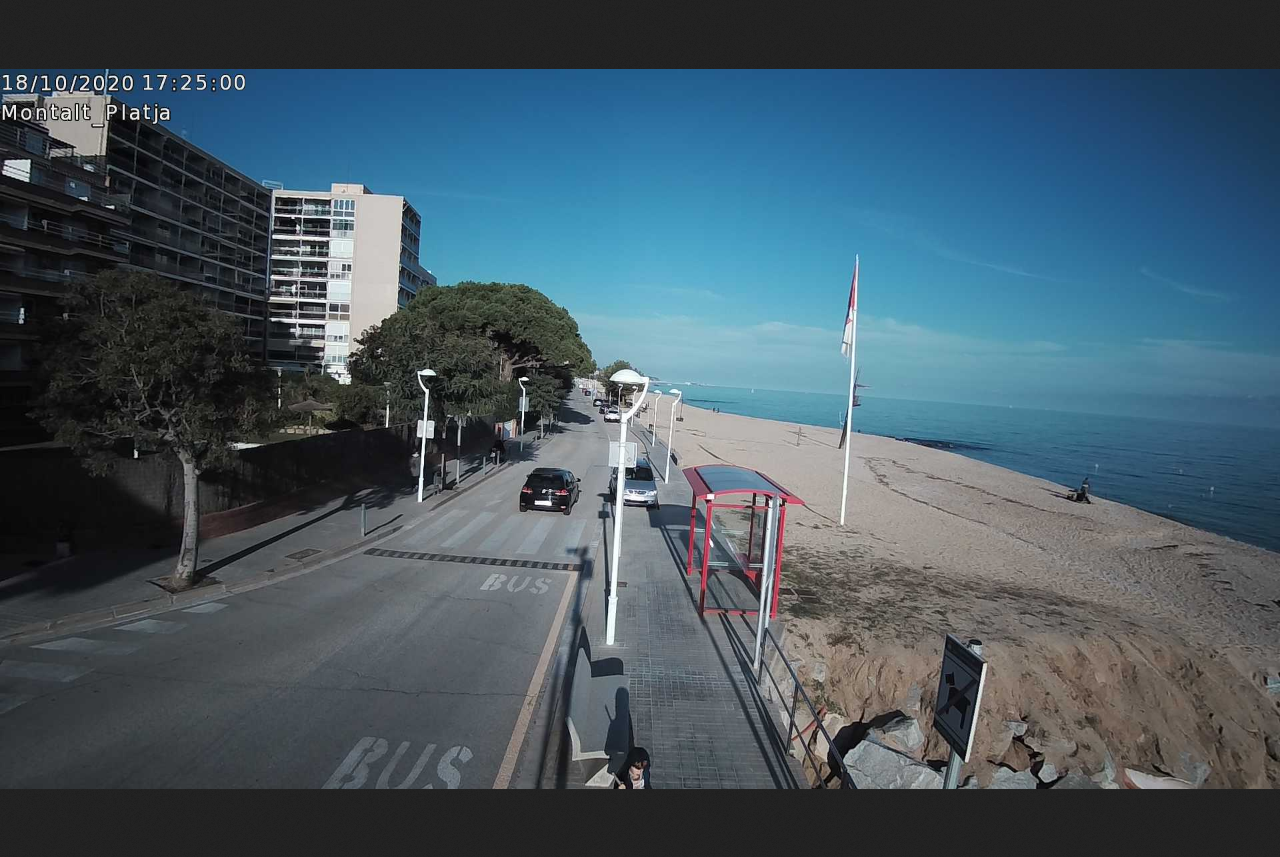no: (840, 261, 859, 357)
